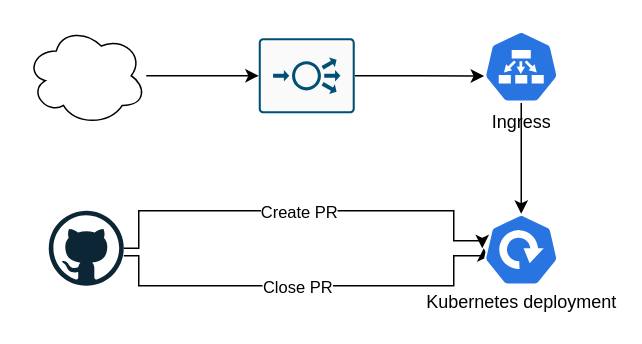
This 642x344 diagram has some shape labels left out. Each missing label, with the centre of its shape:
External load balancer: point 306,75
Github action: point 85,247
